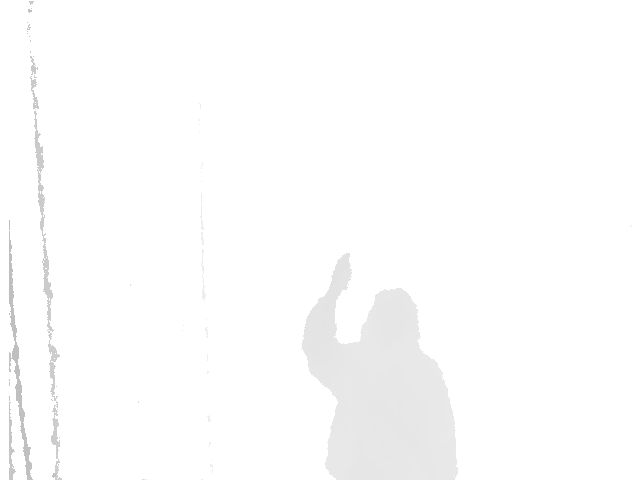hand: (323, 252, 352, 298)
head: (358, 287, 418, 339)
person: (301, 251, 457, 476)
